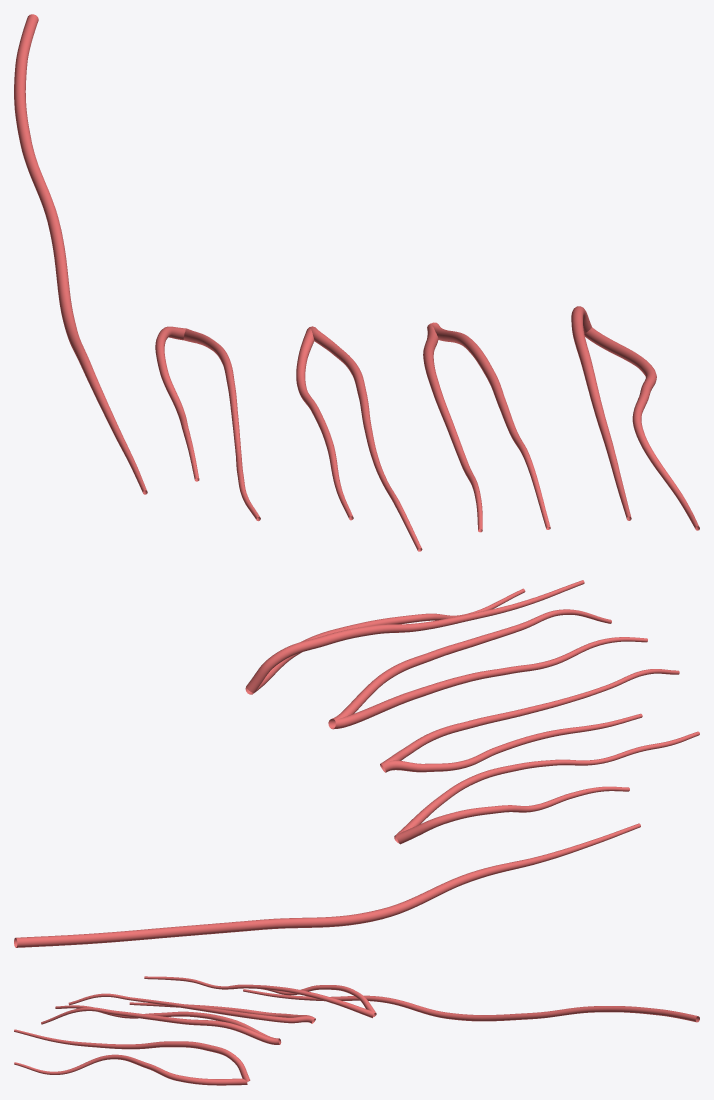
Rendered from Proper_plantar_digital_arteries.r.001_BezierCurve.325.glb.
The picture shows the model from 3 angles, top to bottom: view 1: azimuth 30°, elevation 25°; view 2: azimuth 150°, elevation 25°; view 3: azimuth 270°, elevation 25°; orthographic projection. The views are drawn at different scales.
Visible parts, largest first — view 1: Proper_plantar_digital_arteries.r.001_BezierCurve.325; view 2: Proper_plantar_digital_arteries.r.001_BezierCurve.325; view 3: Proper_plantar_digital_arteries.r.001_BezierCurve.325.
Boxes of the visible parts, x1=… form: Proper_plantar_digital_arteries.r.001_BezierCurve.325: x1=14, y1=14, x2=699, y2=551; Proper_plantar_digital_arteries.r.001_BezierCurve.325: x1=14, y1=580, x2=699, y2=947; Proper_plantar_digital_arteries.r.001_BezierCurve.325: x1=14, y1=976, x2=699, y2=1085.
Bounding box in the file's own units: 0.0604 × 0.0131 × 0.1436.
